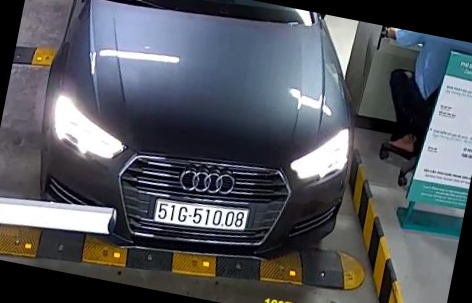plate: (152, 193, 257, 238)
